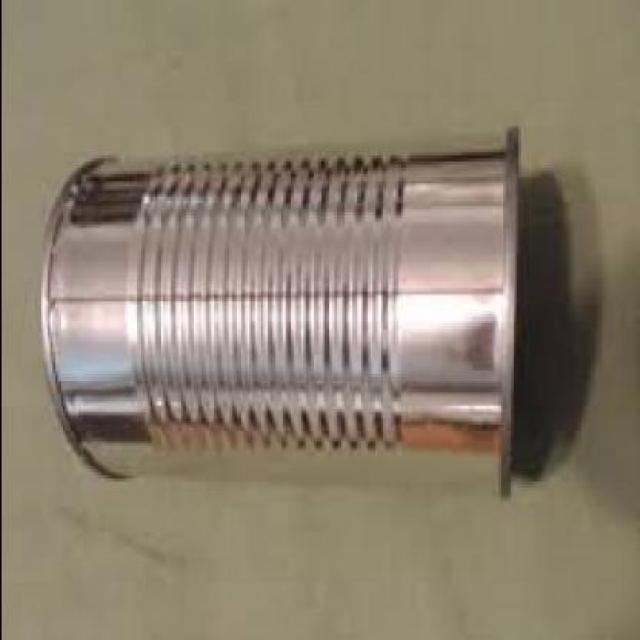METAL: (31, 124, 520, 504)
